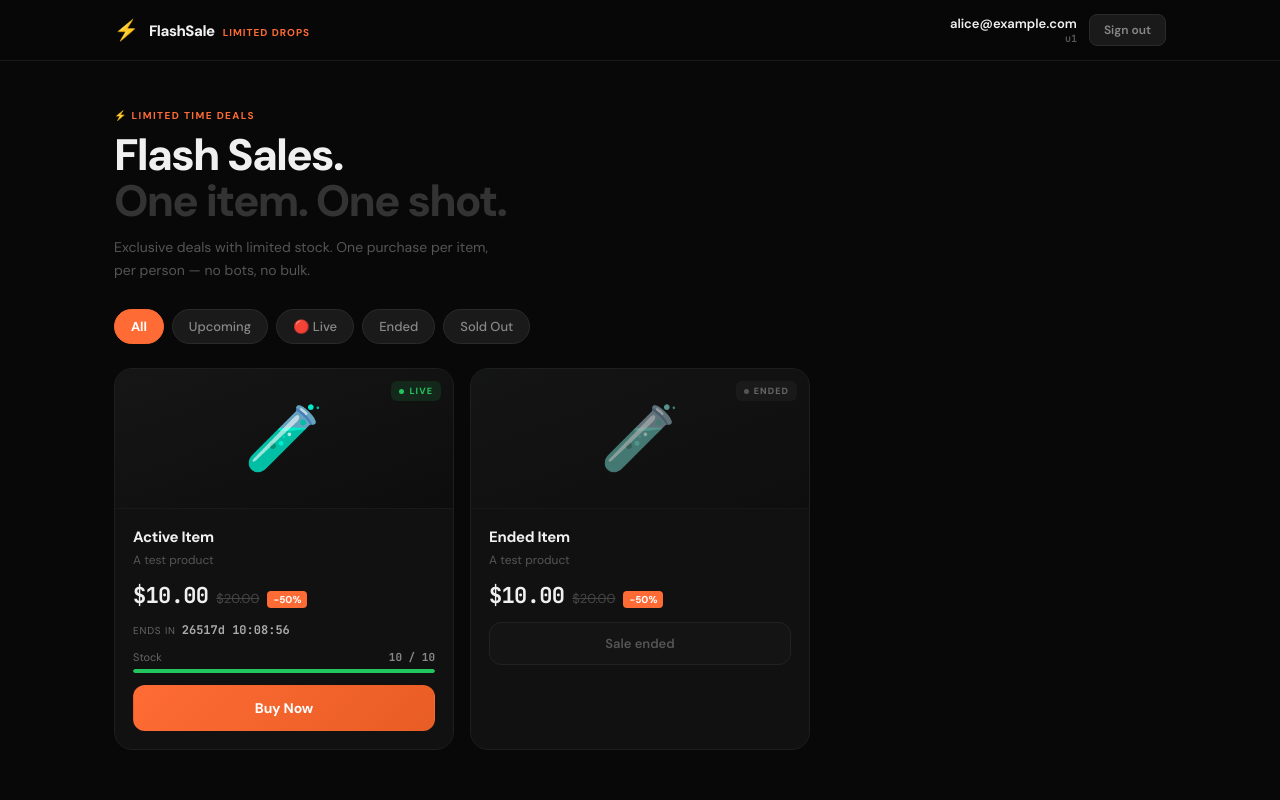
Scenario: HomePage › filters products by status
expect the heading "Active Item" is shown: met, box [133,527,214,547]
Click the button "Ended" at (399, 327), box [362,309,435,344]
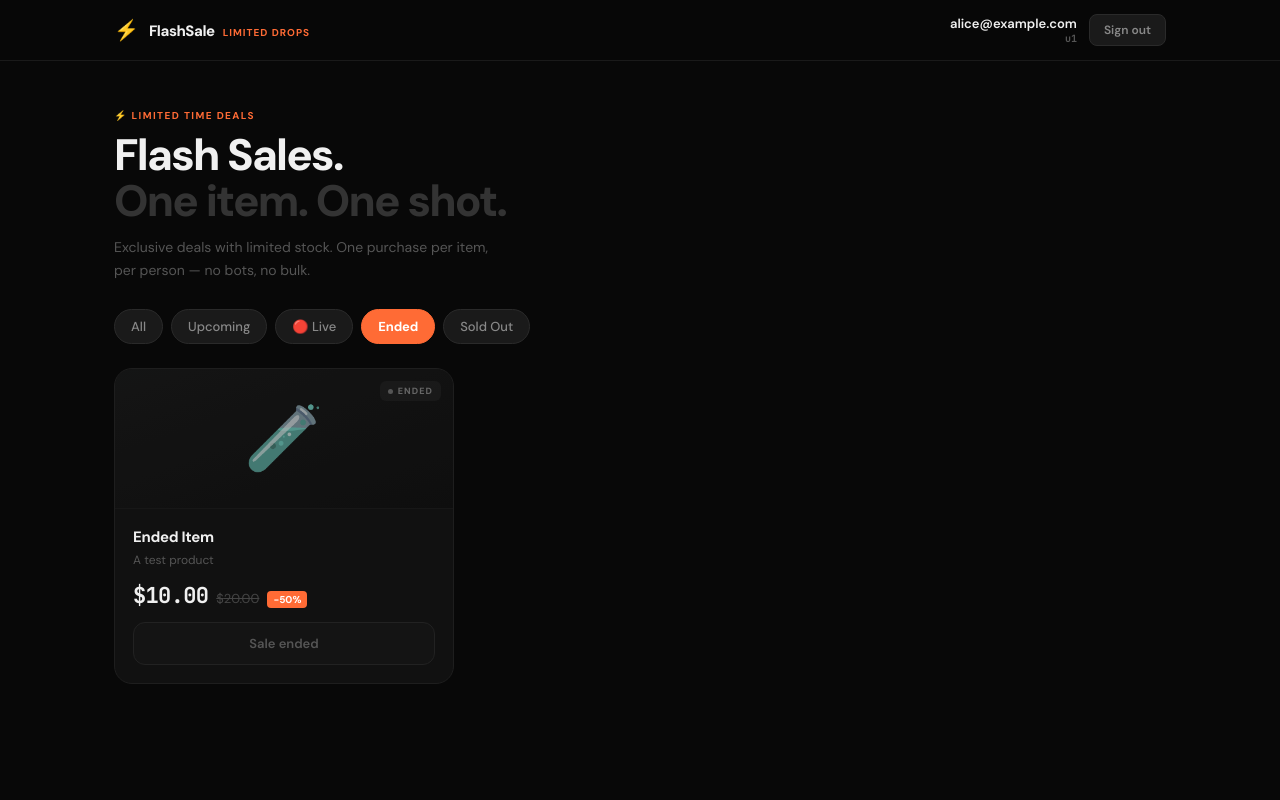
expect the heading "Ended Item" is shown: met, box [133,527,214,547]
expect the heading "Active Item" is gone: met
